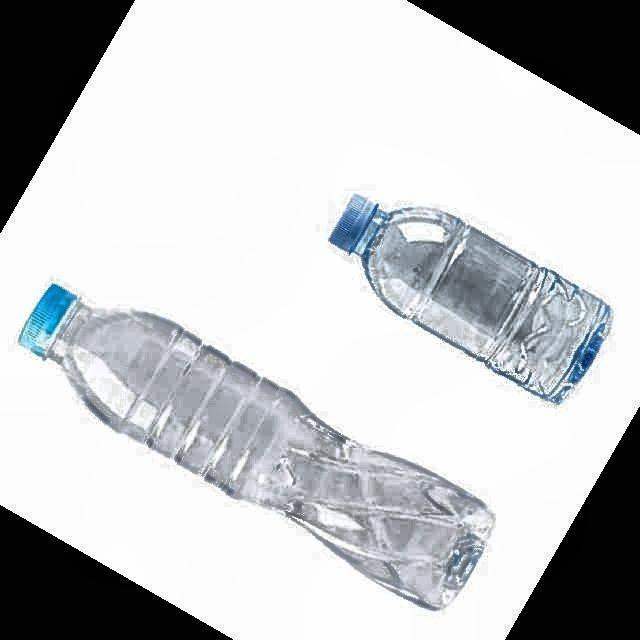plastic: (21, 285, 494, 608), (330, 195, 609, 402)
